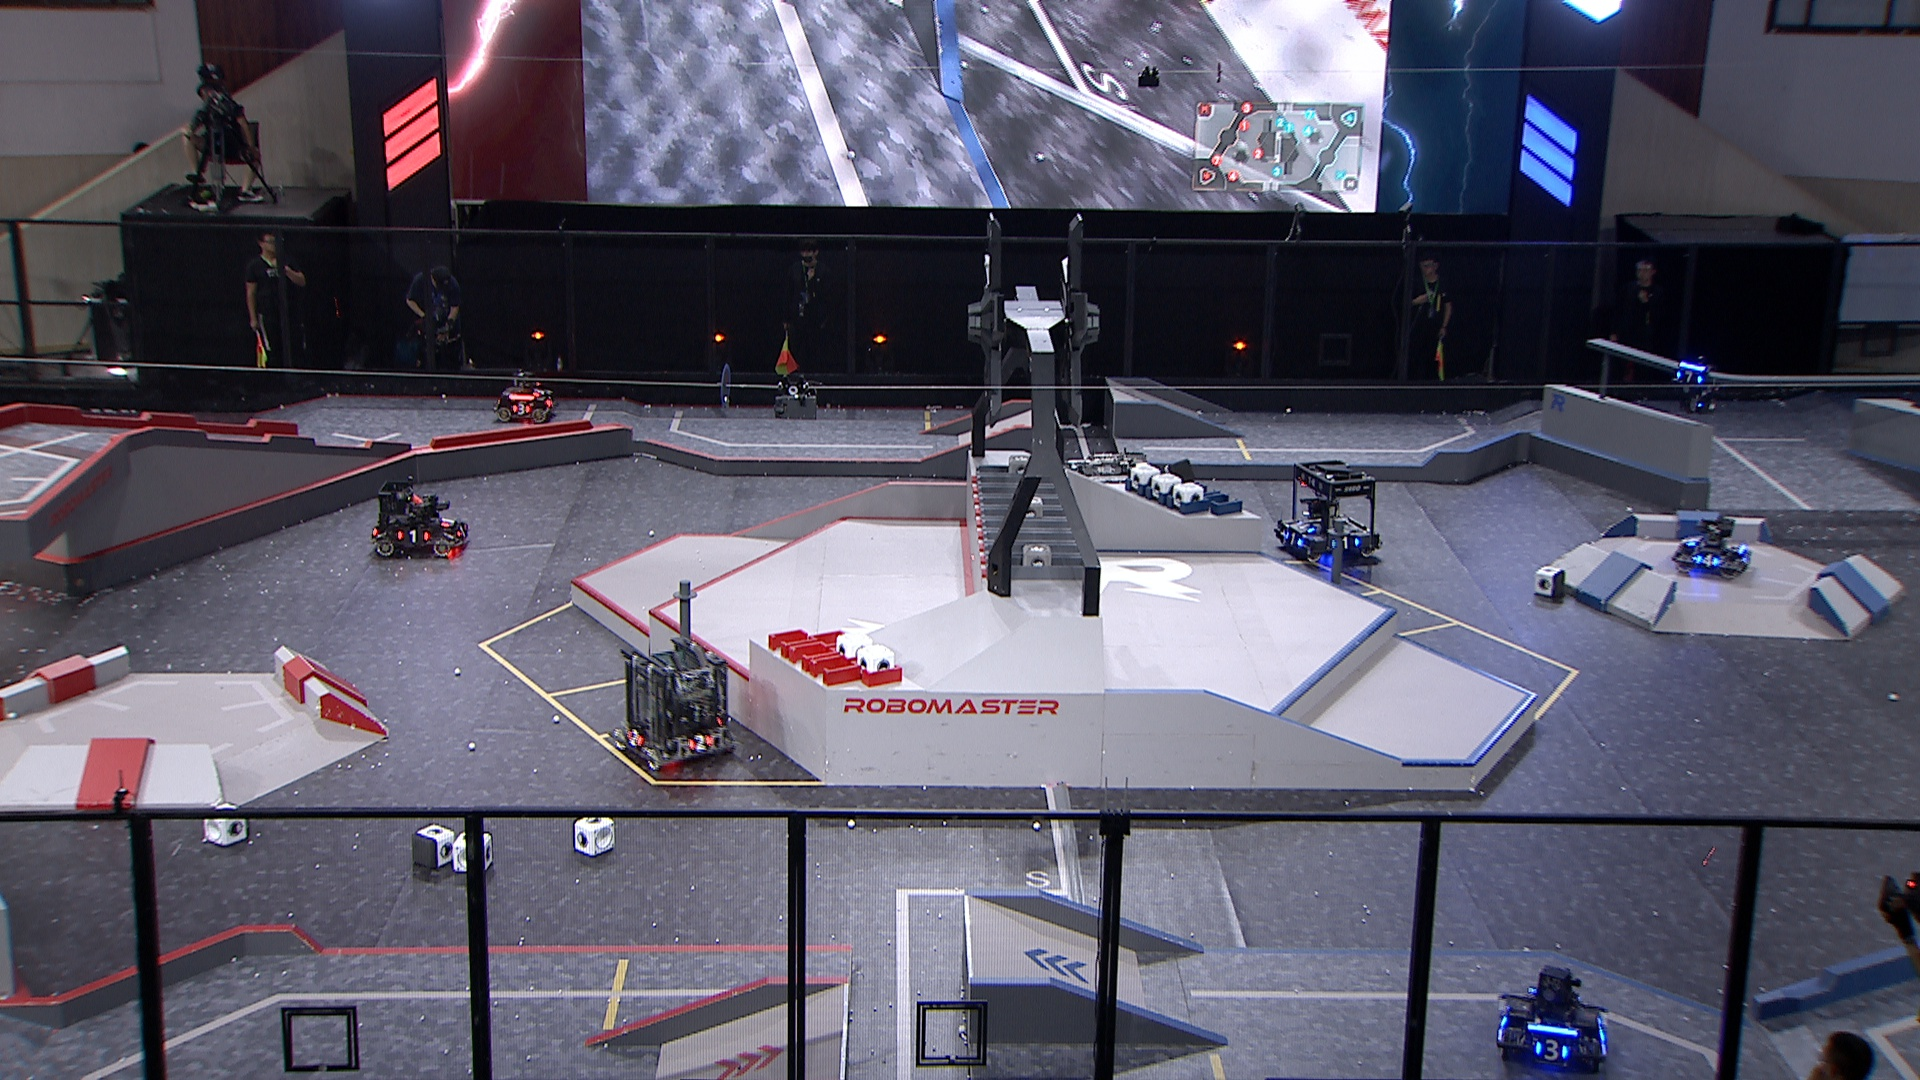armor: (1534, 1039, 1571, 1063), (690, 733, 717, 752), (400, 527, 429, 543), (628, 725, 645, 749), (1675, 371, 1702, 385), (1331, 534, 1358, 547), (1291, 518, 1315, 533), (1284, 529, 1302, 549), (1697, 553, 1717, 567), (510, 401, 529, 414), (531, 385, 545, 400), (1687, 533, 1700, 547), (440, 513, 455, 526), (456, 522, 467, 537), (545, 394, 556, 406)
car: (609, 632, 733, 771), (1495, 967, 1610, 1077), (1273, 455, 1385, 566), (367, 480, 471, 560), (1068, 444, 1159, 522), (1669, 510, 1756, 582), (491, 367, 556, 423)
watcher: (1669, 351, 1722, 411)
